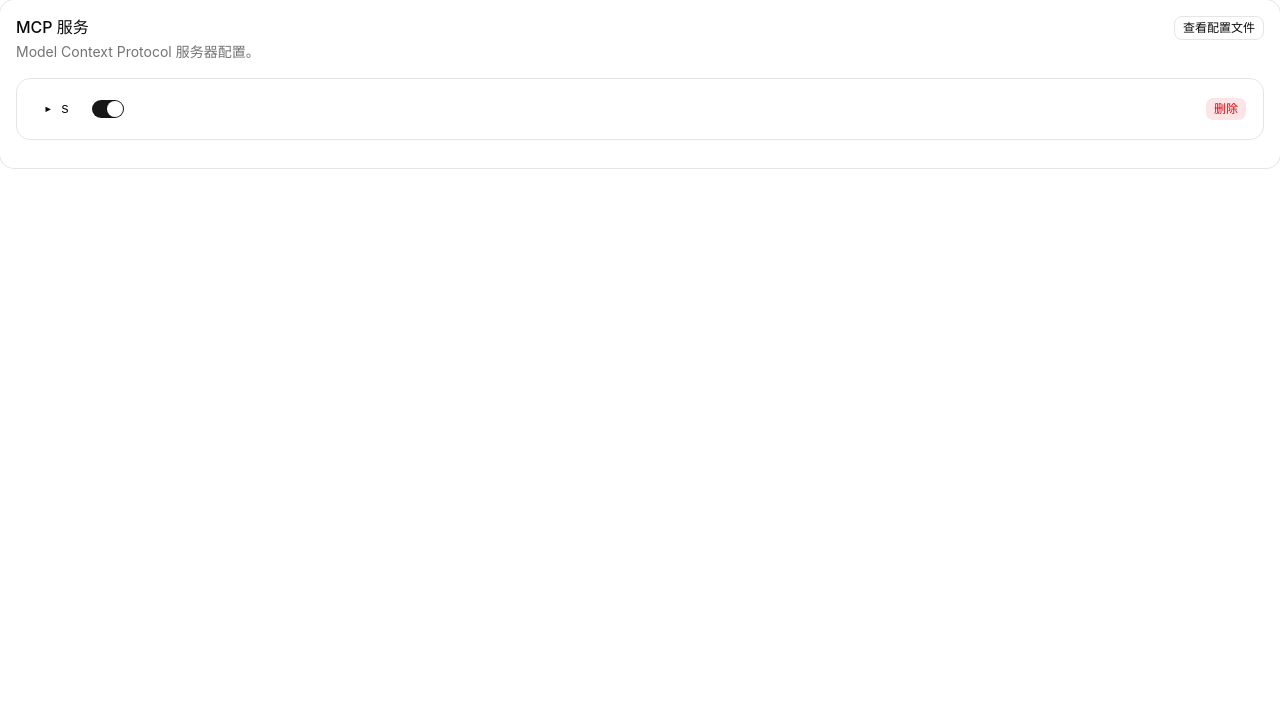
Test: McpPage › renders local environment as a key-value editor
Click the button "▸ s" at (57, 109), box top-left (33, 95), bottom-right (80, 123)
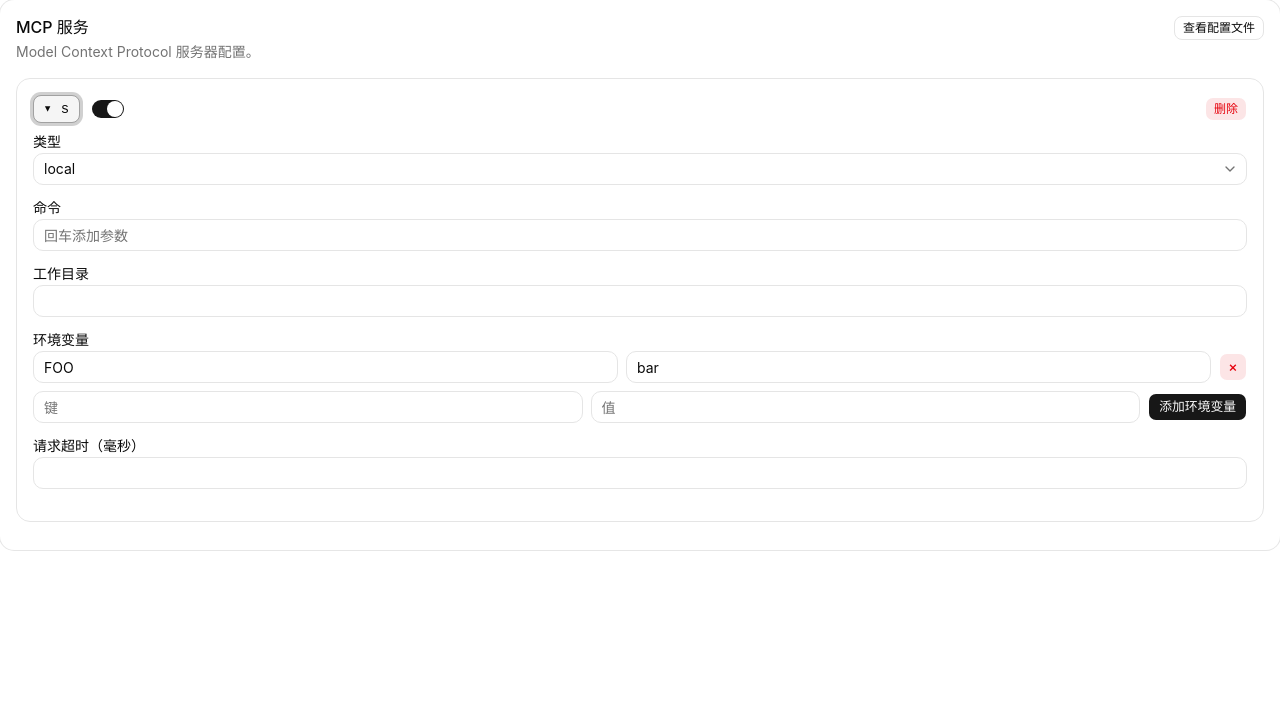
Check: the field named "环境变量 值 FOO" holds "bar", box top-left (626, 351), bottom-right (1211, 383)
